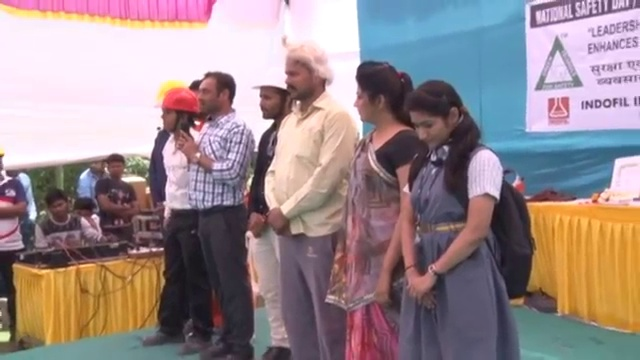helmet: (154, 85, 198, 116), (251, 63, 292, 92), (0, 145, 6, 158)
helmet_off: (402, 77, 473, 163), (349, 58, 410, 136), (279, 45, 333, 105), (189, 73, 240, 121), (44, 190, 70, 222), (70, 197, 95, 224), (105, 156, 125, 182), (88, 158, 107, 177), (4, 169, 21, 180)
helmet_on: (154, 79, 202, 133), (251, 64, 291, 121), (0, 145, 5, 173)
person: (403, 71, 535, 360), (264, 41, 358, 360), (339, 57, 421, 360), (181, 75, 258, 359), (142, 81, 211, 356), (250, 62, 294, 356), (0, 144, 30, 346), (34, 186, 111, 248), (94, 155, 140, 239), (75, 159, 108, 198)
